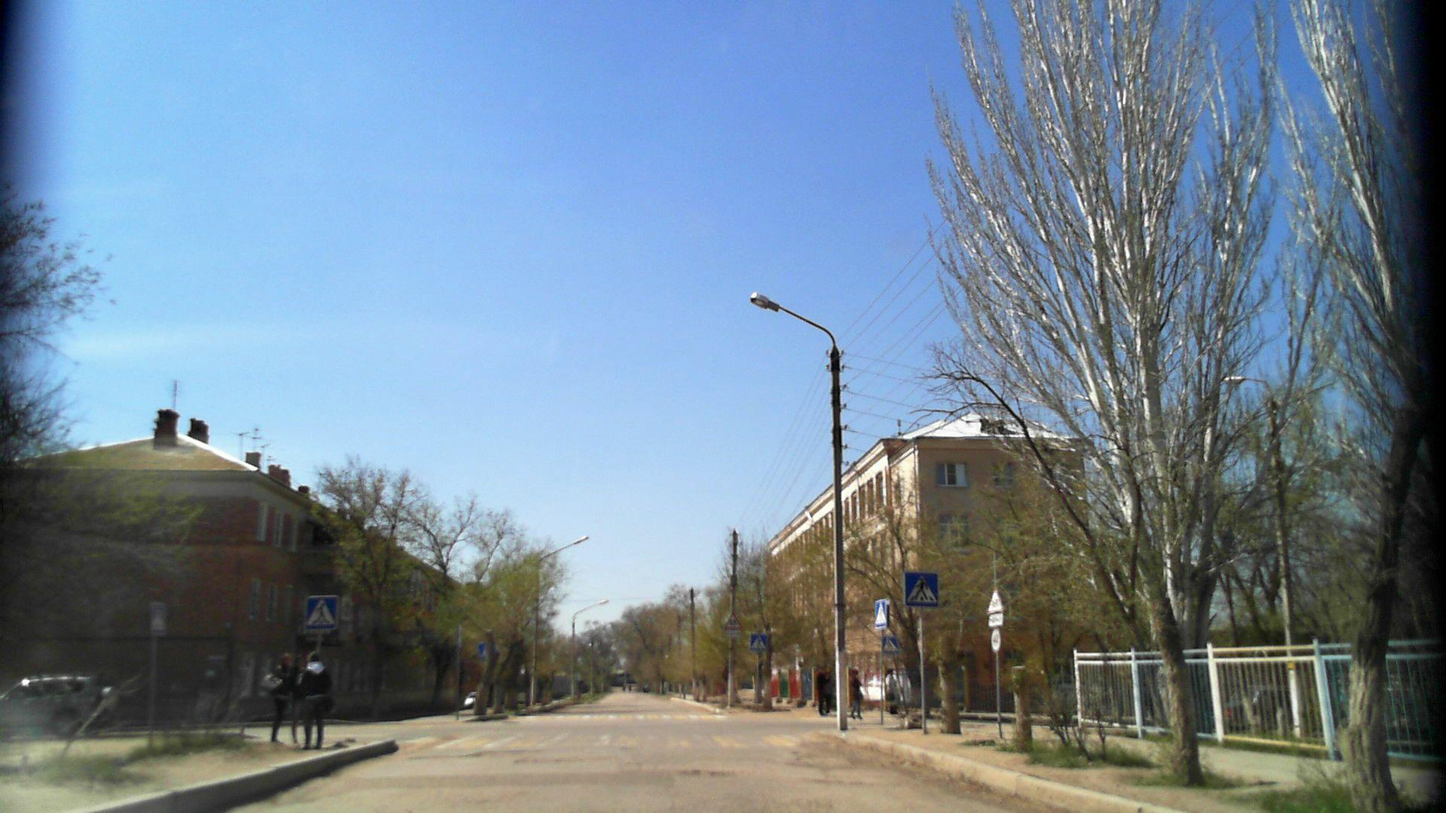road_sign: (904, 572, 941, 608), (304, 595, 337, 631)
